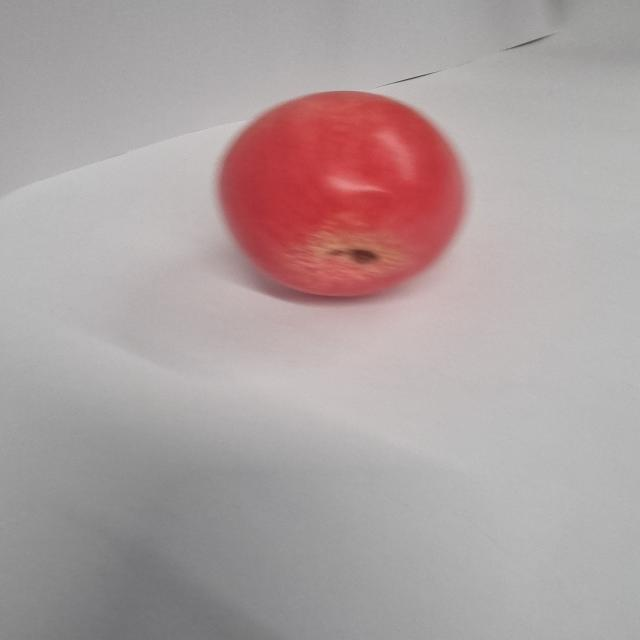apple: (219, 90, 466, 299)
